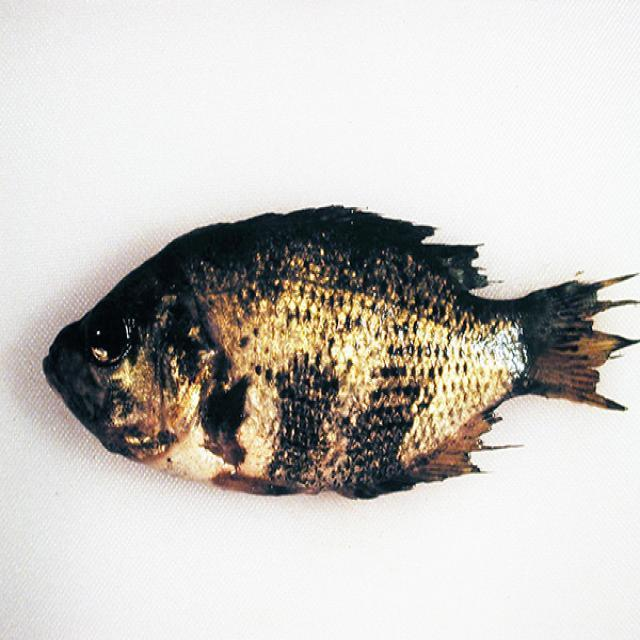EUS Disease: (39, 205, 637, 503)
